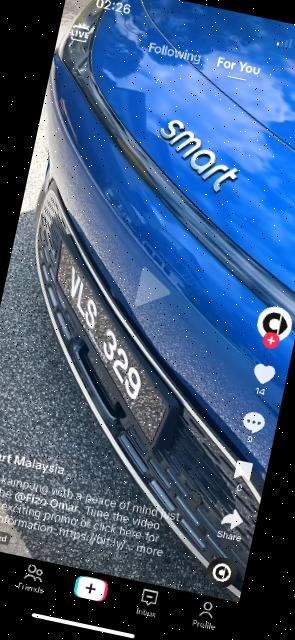License_Plate: (10, 231, 204, 461)
car: (1, 1, 295, 597)
